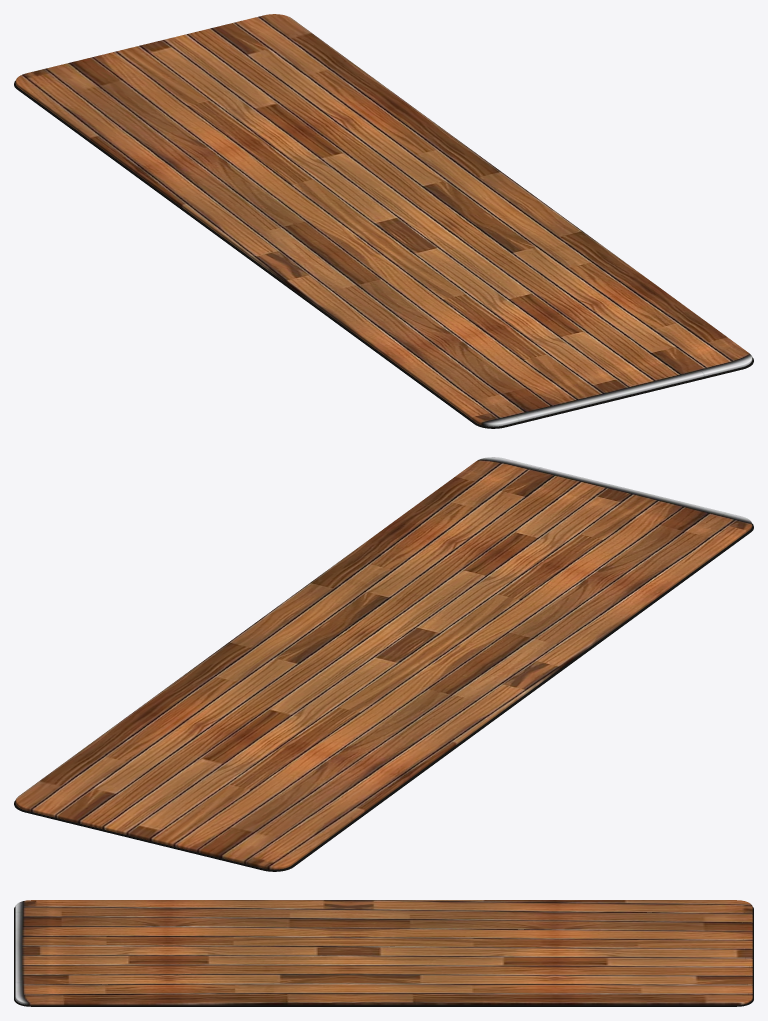
The picture shows the model from 3 angles, top to bottom: view 1: azimuth 30°, elevation 25°; view 2: azimuth 150°, elevation 25°; view 3: azimuth 270°, elevation 25°; orthographic projection. The views are drawn at different scales.
Parts seen in each view (by area): view 1: CANWAY Wood Print Kitchen Runner; view 2: CANWAY Wood Print Kitchen Runner; view 3: CANWAY Wood Print Kitchen Runner.
Boxes of the visible parts, bbox=[...] form: CANWAY Wood Print Kitchen Runner: bbox=[14, 14, 753, 428]; CANWAY Wood Print Kitchen Runner: bbox=[14, 457, 753, 871]; CANWAY Wood Print Kitchen Runner: bbox=[14, 900, 753, 1006].
Bounding box in the file's own units: 0.4 × 0.00603 × 1.2.
Materials: 2 (1 with a texture image).
